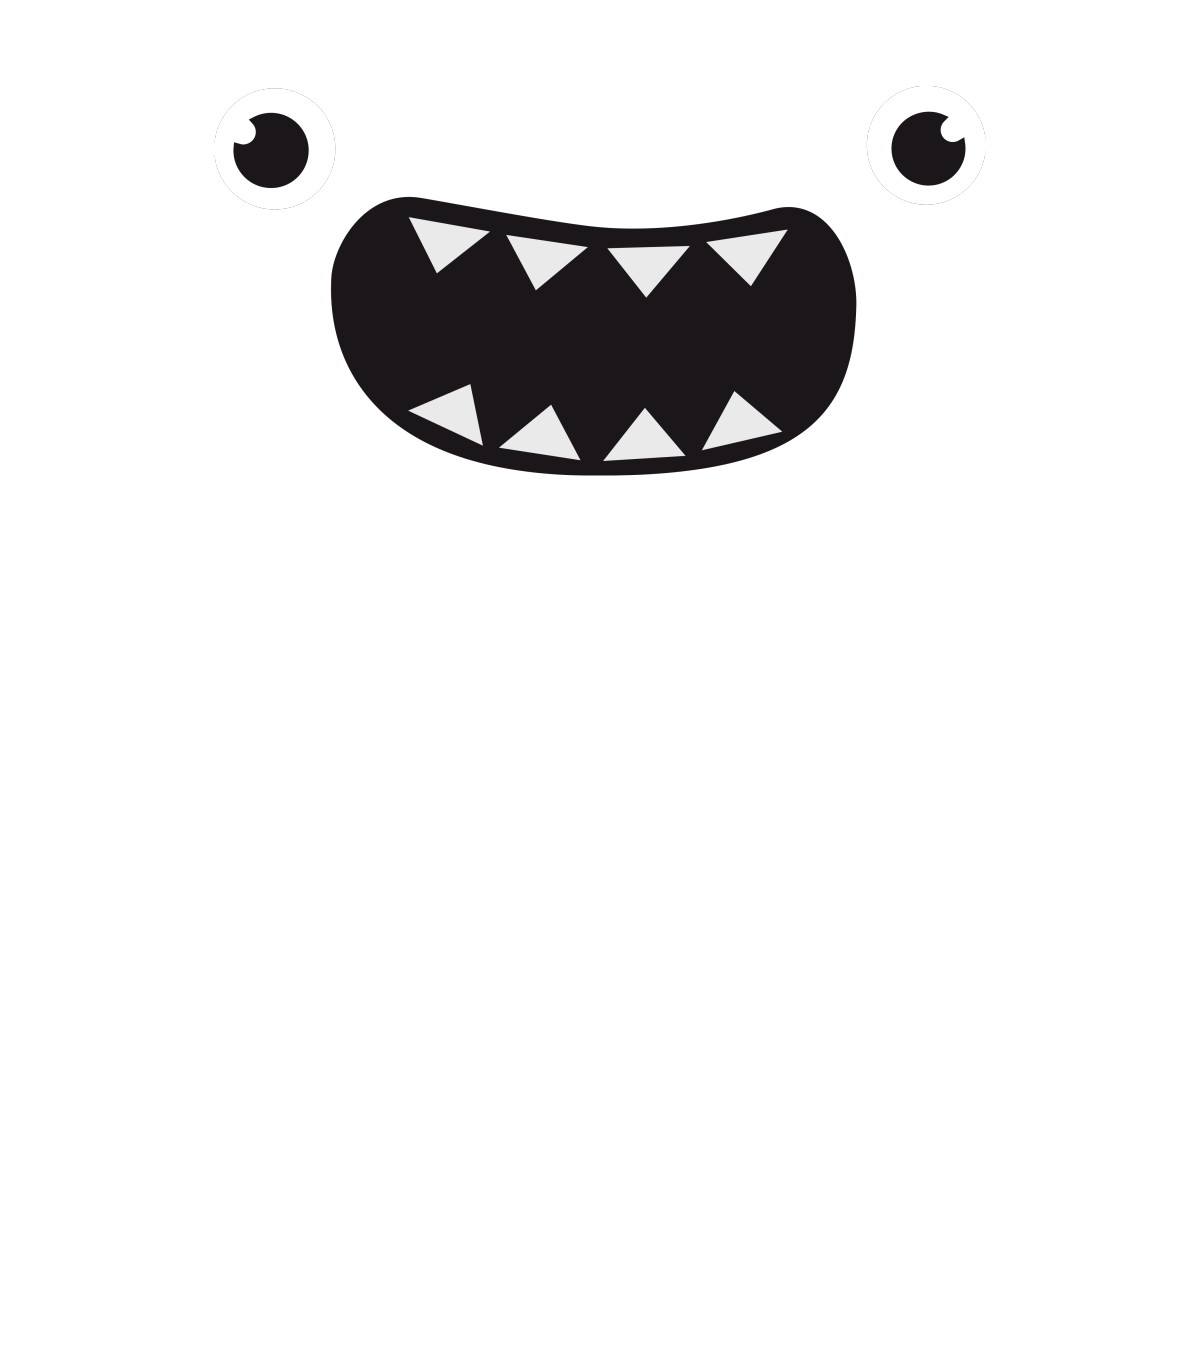design: (192, 66, 1005, 519)
